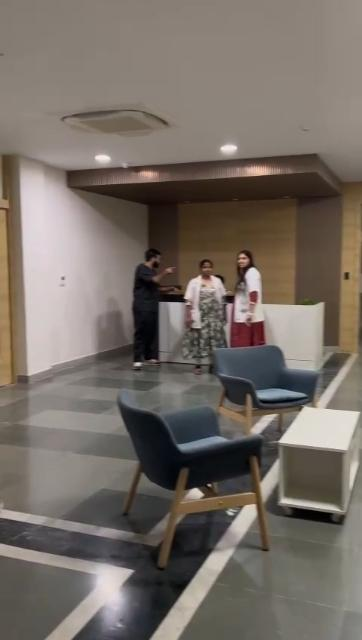floor: (3, 398, 94, 640), (106, 556, 362, 640)
moving-obj: (214, 238, 280, 354), (172, 242, 232, 362)
object: (88, 380, 276, 550), (272, 394, 362, 542), (196, 330, 312, 410), (124, 242, 178, 370)
wall: (54, 202, 132, 344), (17, 160, 62, 364), (268, 218, 360, 298), (167, 168, 341, 210), (132, 208, 270, 246), (63, 172, 185, 208), (327, 300, 361, 340), (175, 246, 198, 270), (258, 244, 278, 264), (198, 249, 236, 257), (218, 260, 232, 274)
